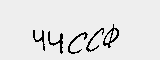С: (84, 24, 104, 53), (66, 31, 86, 57)
Ф: (102, 24, 120, 51)
Ч: (45, 29, 64, 54), (29, 26, 45, 54)
